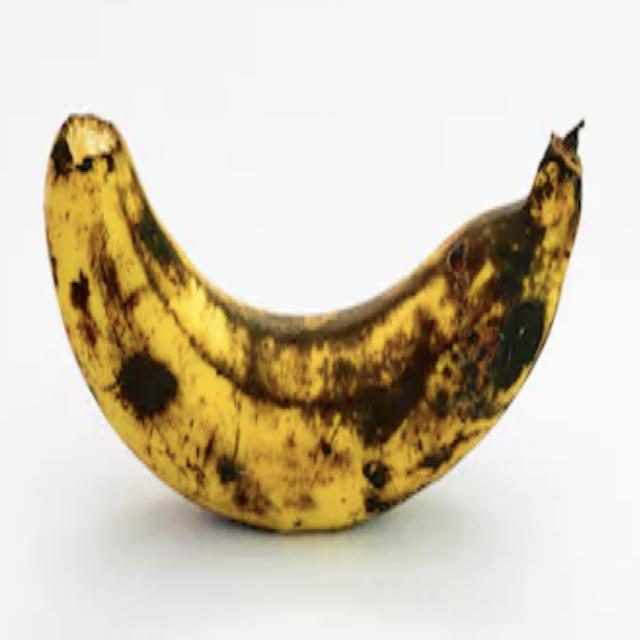rotten-banana: (42, 107, 585, 535)
